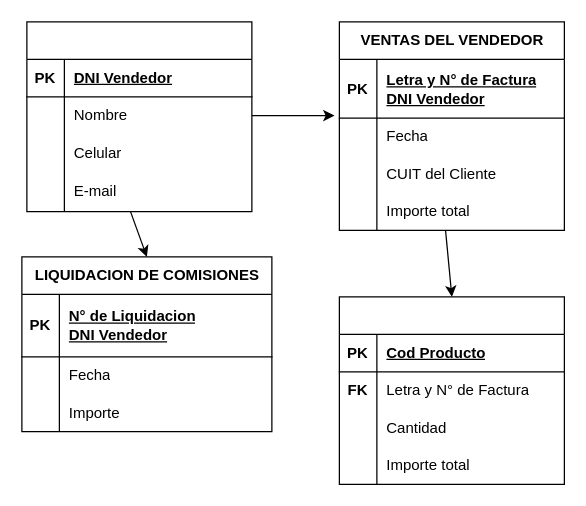
This 586x506 diagram has some shape labels left out. The shapes that lost their labels are listed below. From the top down, each one's box as (x1, y1, x2, y2) in pixels, then its label:
(26, 21, 252, 212): VENDEDORES
(338, 296, 564, 484): DETALLE
